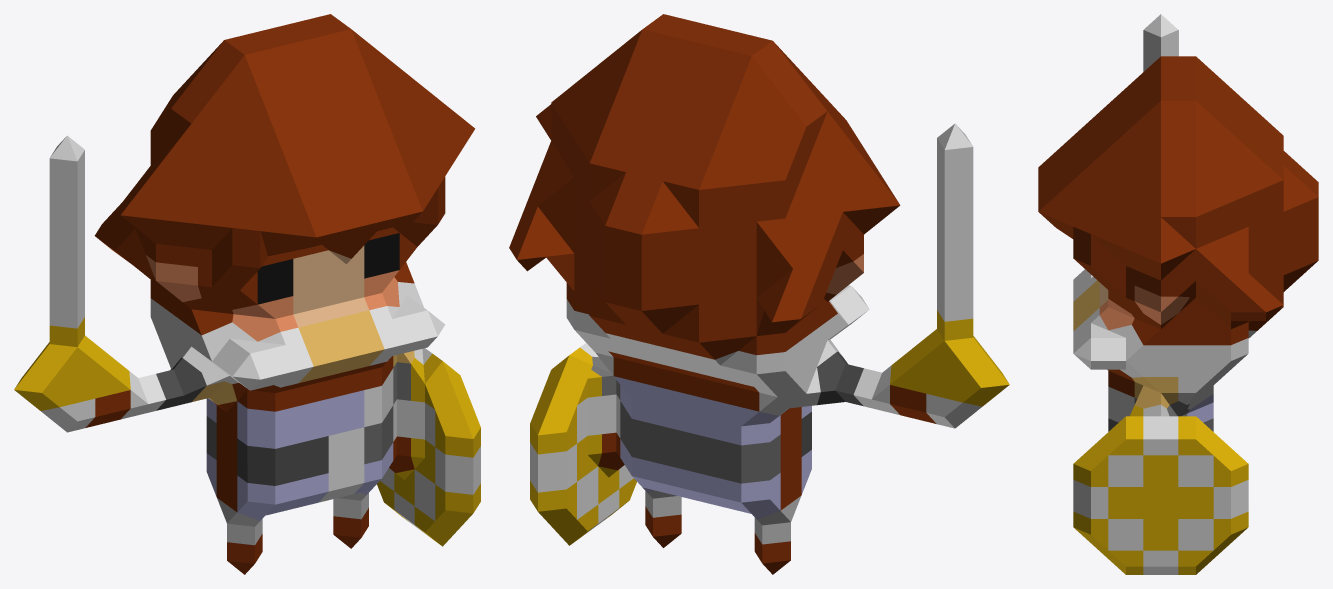
Rendered from CKnight_LOD1.fbx.
The picture shows the model from 3 angles, left to right: view 1: azimuth 30°, elevation 25°; view 2: azimuth 150°, elevation 25°; view 3: azimuth 270°, elevation 25°; orthographic projection. The views are drawn at different scales.
Parts seen in each view (by area): view 1: node; view 2: node; view 3: node.
Boxes of the visible parts, <box> form: node: <box>14,14,480,574</box>; node: <box>509,14,1009,574</box>; node: <box>1038,14,1318,574</box>.
Size of the model in its own units: 1300 by 1400 by 800.
